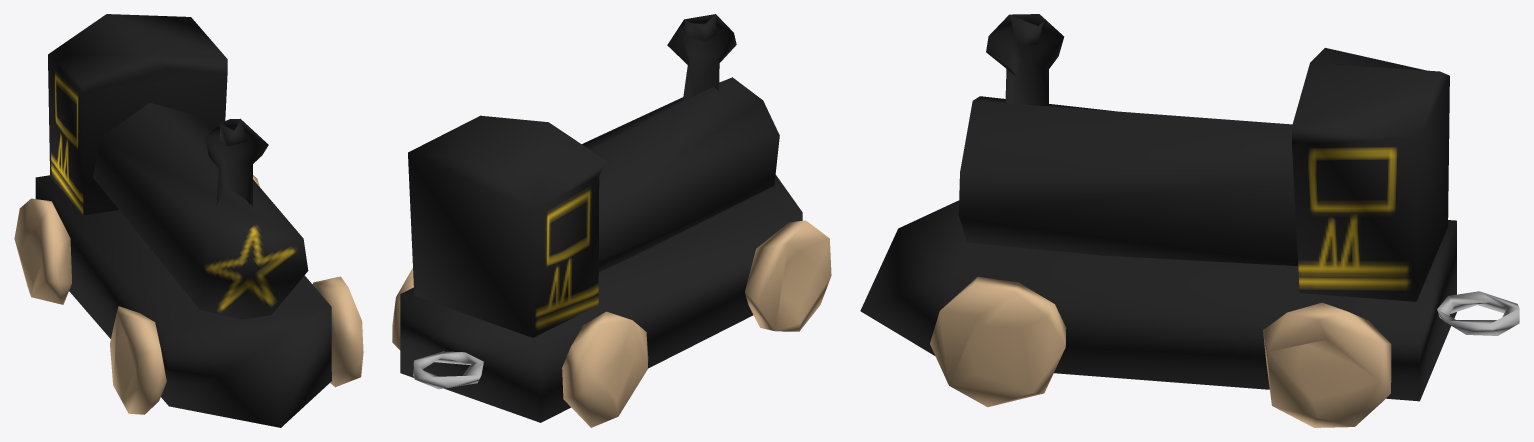
The model's file is nero_LOD1.fbx.
The picture shows the model from 3 angles, left to right: view 1: azimuth 30°, elevation 25°; view 2: azimuth 150°, elevation 25°; view 3: azimuth 270°, elevation 25°; orthographic projection. The views are drawn at different scales.
Parts seen in each view (by area): view 1: inizio; view 2: inizio; view 3: inizio.
Part boxes in pixels (left/top/right/bottom): inizio: left=14, top=14, right=363, bottom=427; inizio: left=392, top=14, right=831, bottom=427; inizio: left=860, top=14, right=1519, bottom=427.
Bounding box in the file's own units: 342 × 343 × 614.
1 material, 1 textured.
